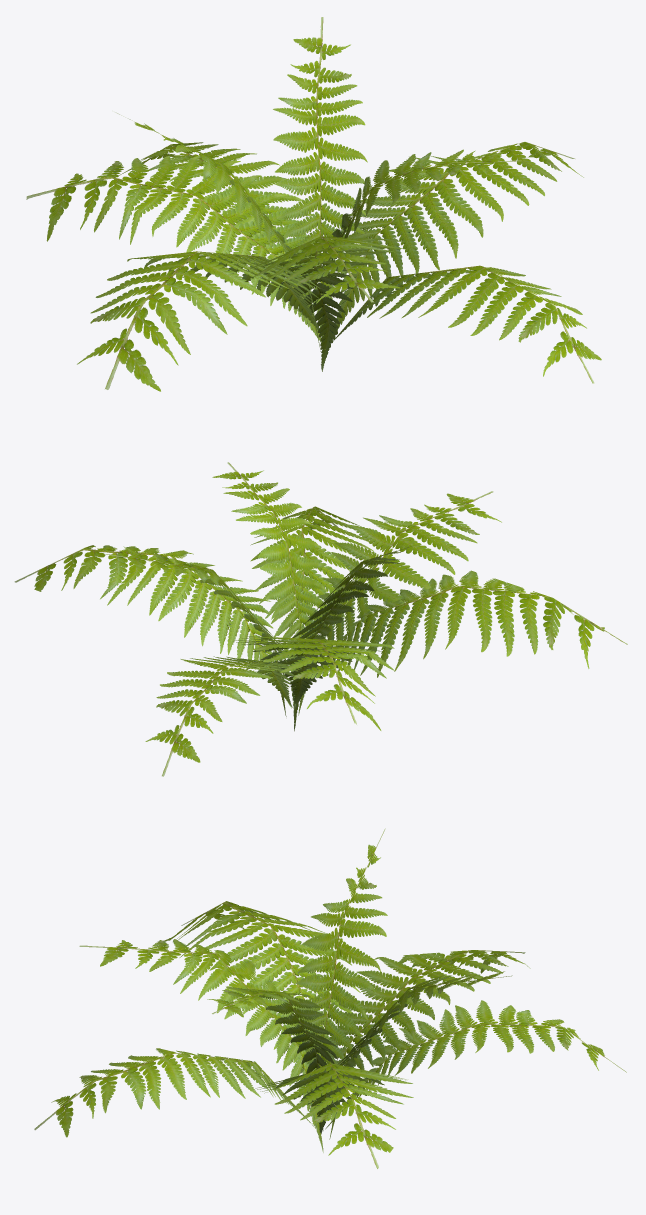
File: fern.obj
3 renders of one model, top to bottom at view 1: azimuth 30°, elevation 25°; view 2: azimuth 150°, elevation 25°; view 3: azimuth 270°, elevation 25°, orthographic. The views are drawn at different scales.
Parts seen in each view (by area): view 1: ferns_1_ferns_1_0; view 2: ferns_1_ferns_1_0; view 3: ferns_1_ferns_1_0.
Boxes of the visible parts, x1,y1,x2,y2 form: ferns_1_ferns_1_0: [26, 17, 601, 391]; ferns_1_ferns_1_0: [14, 462, 627, 776]; ferns_1_ferns_1_0: [34, 828, 626, 1168].
Bounding box in the file's own units: 695 × 309 × 657.
Materials: 1 (1 with a texture image).
